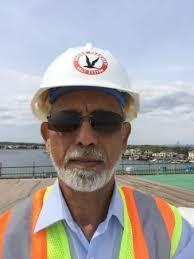helmet: (29, 42, 141, 120)
